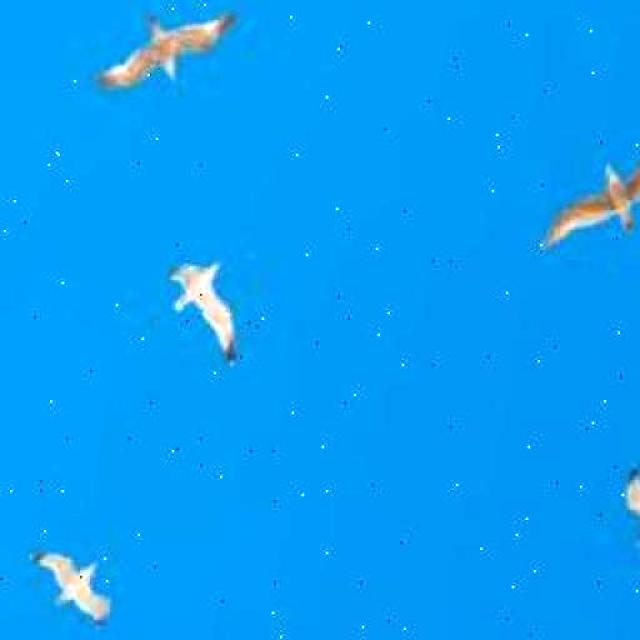airplane: (88, 0, 235, 115), (539, 136, 640, 272), (152, 242, 254, 366), (14, 544, 120, 632), (612, 460, 640, 564)
